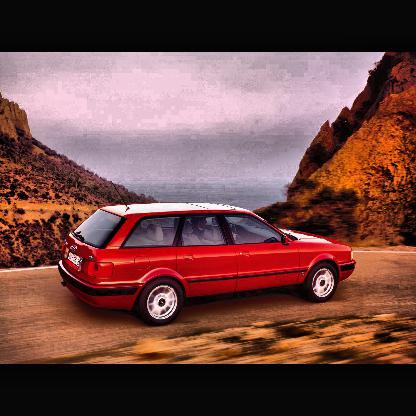Audi 100 Wagon 1994: (58, 183, 358, 328)
